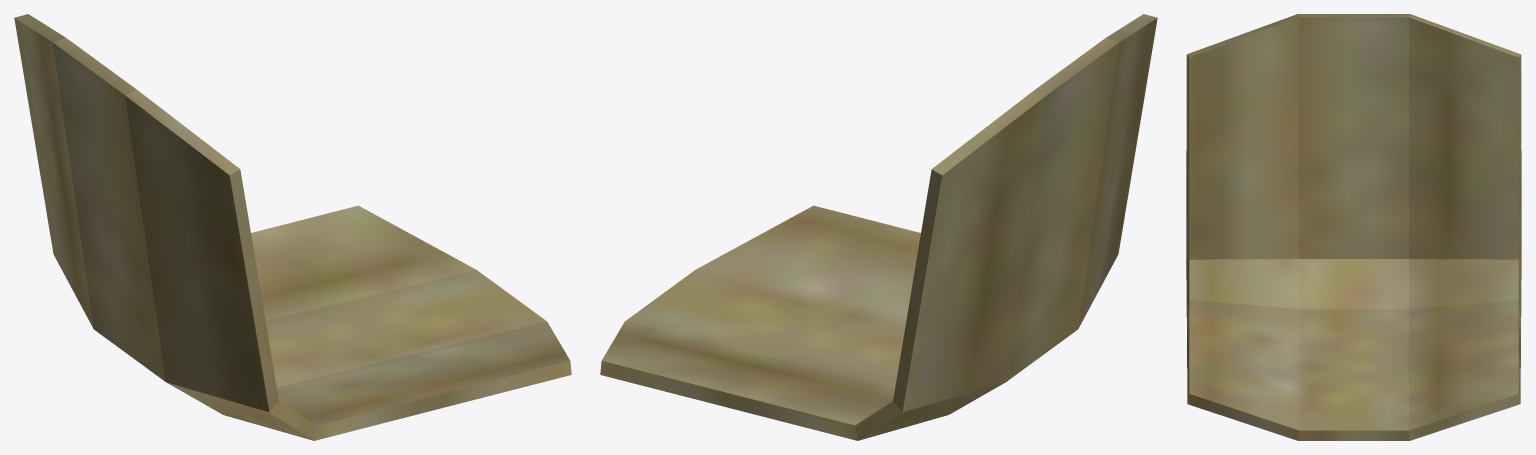
File: Urban_BusstopSingleSeatLooseAlt2_Model.fbx
3 views of the same model, side by side, from view 1: azimuth 30°, elevation 25°; view 2: azimuth 150°, elevation 25°; view 3: azimuth 270°, elevation 25° (orthographic). The views are drawn at different scales.
Visible parts, largest first — view 1: Urban_BusstopSingleSeatLooseAlt2_Mesh; view 2: Urban_BusstopSingleSeatLooseAlt2_Mesh; view 3: Urban_BusstopSingleSeatLooseAlt2_Mesh.
Boxes of the visible parts, left/top/right/bottom form: Urban_BusstopSingleSeatLooseAlt2_Mesh: left=14, top=14, right=571, bottom=440; Urban_BusstopSingleSeatLooseAlt2_Mesh: left=600, top=14, right=1157, bottom=440; Urban_BusstopSingleSeatLooseAlt2_Mesh: left=1186, top=14, right=1521, bottom=440.
Bounding box in the file's own units: 0.692 × 0.54 × 0.6118.
